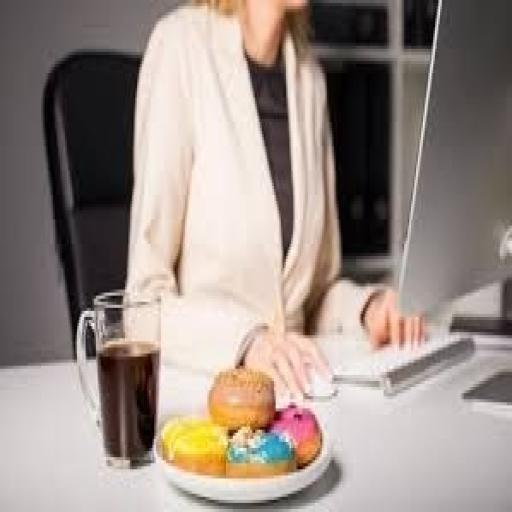eating: (121, 0, 426, 405)
